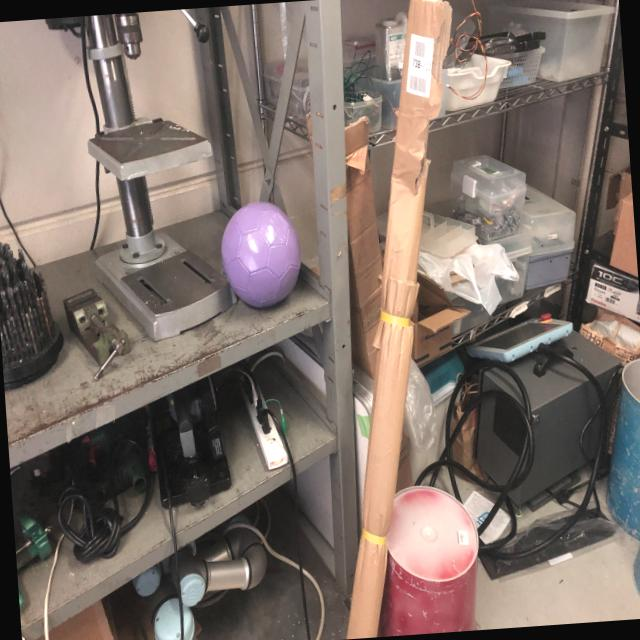purple_ball: (218, 198, 302, 310)
